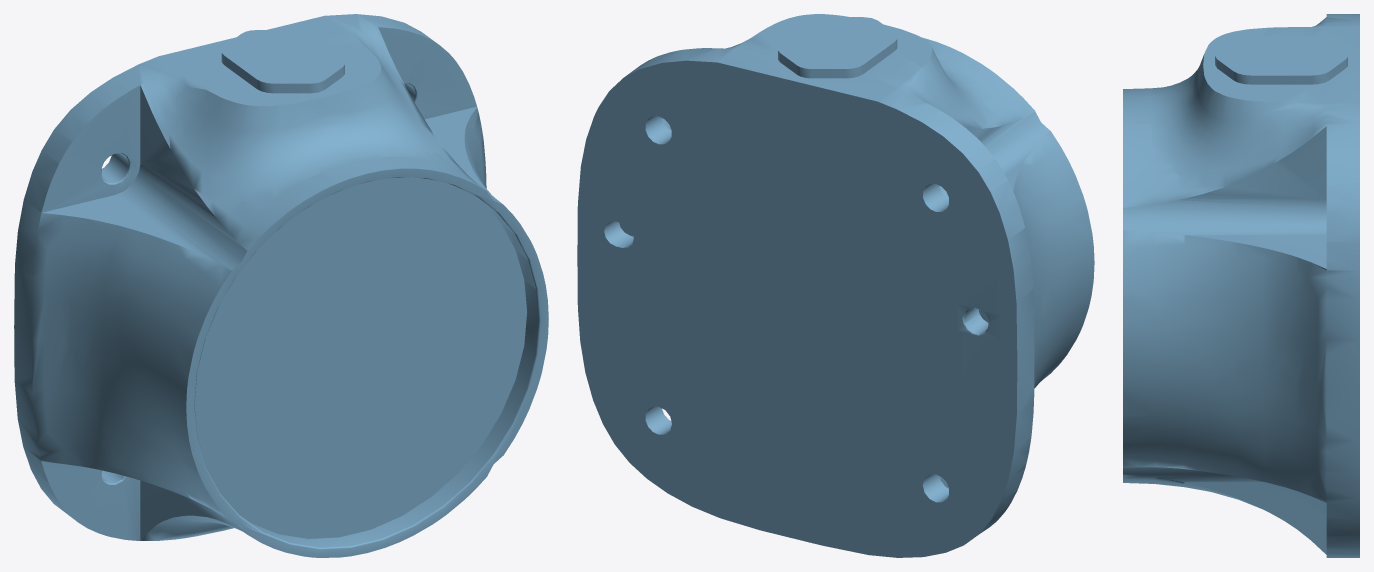
3 views of the same model, side by side, from view 1: azimuth 30°, elevation 25°; view 2: azimuth 150°, elevation 25°; view 3: azimuth 270°, elevation 25° (orthographic). The views are drawn at different scales.
Parts seen in each view (by area): view 1: base_link-mesh; view 2: base_link-mesh; view 3: base_link-mesh.
Part boxes in pixels (x1=…): base_link-mesh: x1=14, y1=14, x2=548, y2=557; base_link-mesh: x1=577, y1=14, x2=1094, y2=557; base_link-mesh: x1=1123, y1=14, x2=1359, y2=557.
Bounding box in the file's own units: 0.148 × 0.1501 × 0.071.
